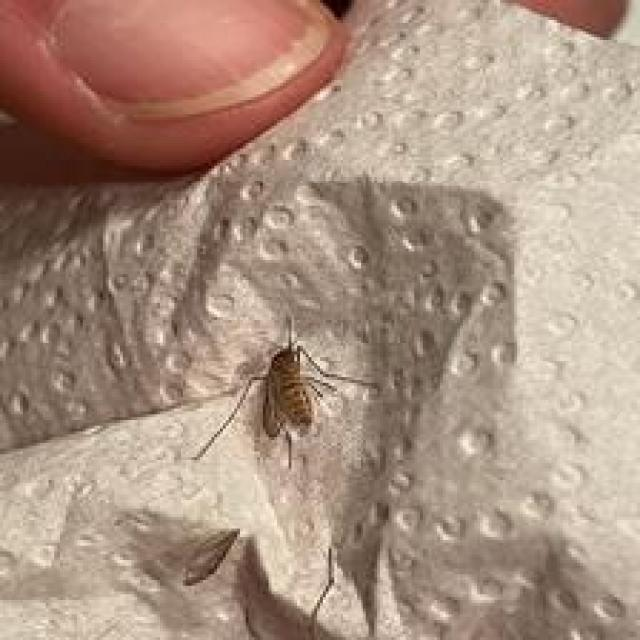Culex: (187, 313, 379, 470)
